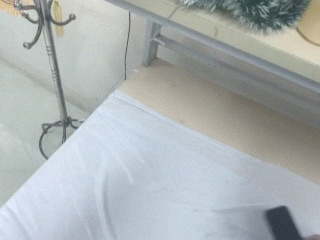phone: (265, 206, 305, 240)
